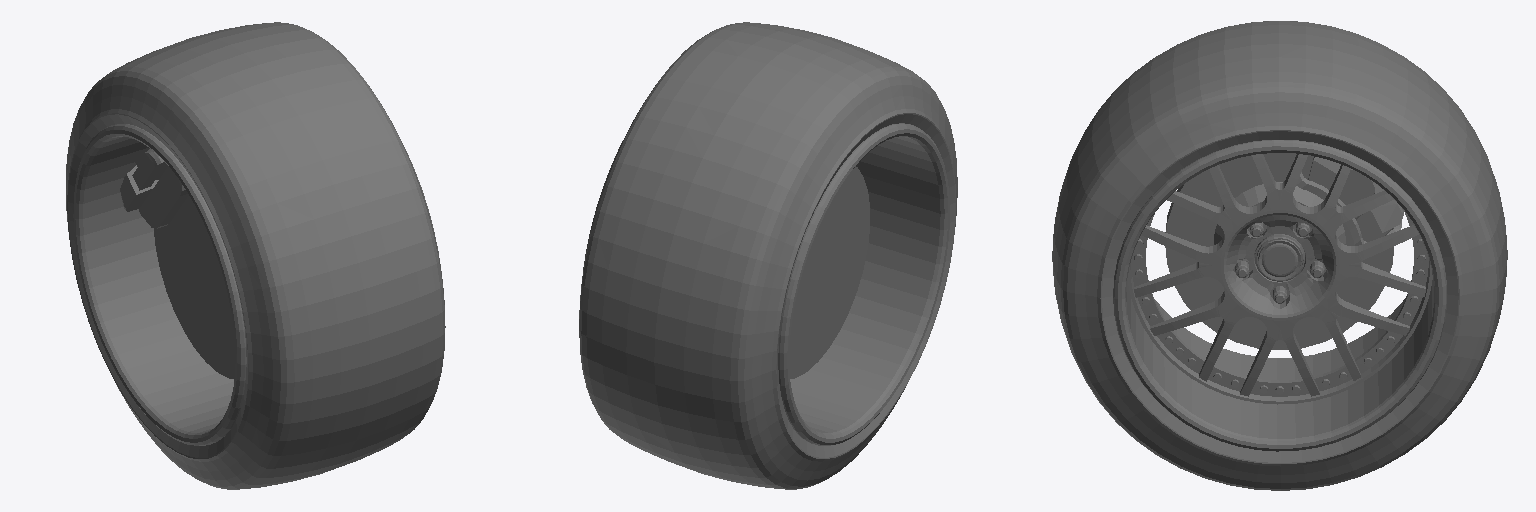
Rendered from Llanta_Delantera_Izq.obj.
3 renders of one model, left to right at view 1: azimuth 30°, elevation 25°; view 2: azimuth 150°, elevation 25°; view 3: azimuth 270°, elevation 25°, orthographic.
Parts seen in each view (by area): view 1: Llanta_Delantera_Izq; view 2: Llanta_Delantera_Izq; view 3: Llanta_Delantera_Izq.
Part boxes in pixels (x1,y1,x2,y2): Llanta_Delantera_Izq: (66, 22, 445, 489); Llanta_Delantera_Izq: (579, 22, 957, 489); Llanta_Delantera_Izq: (1052, 21, 1507, 490).
Bounding box in the file's own units: 1.11 × 2 × 2.